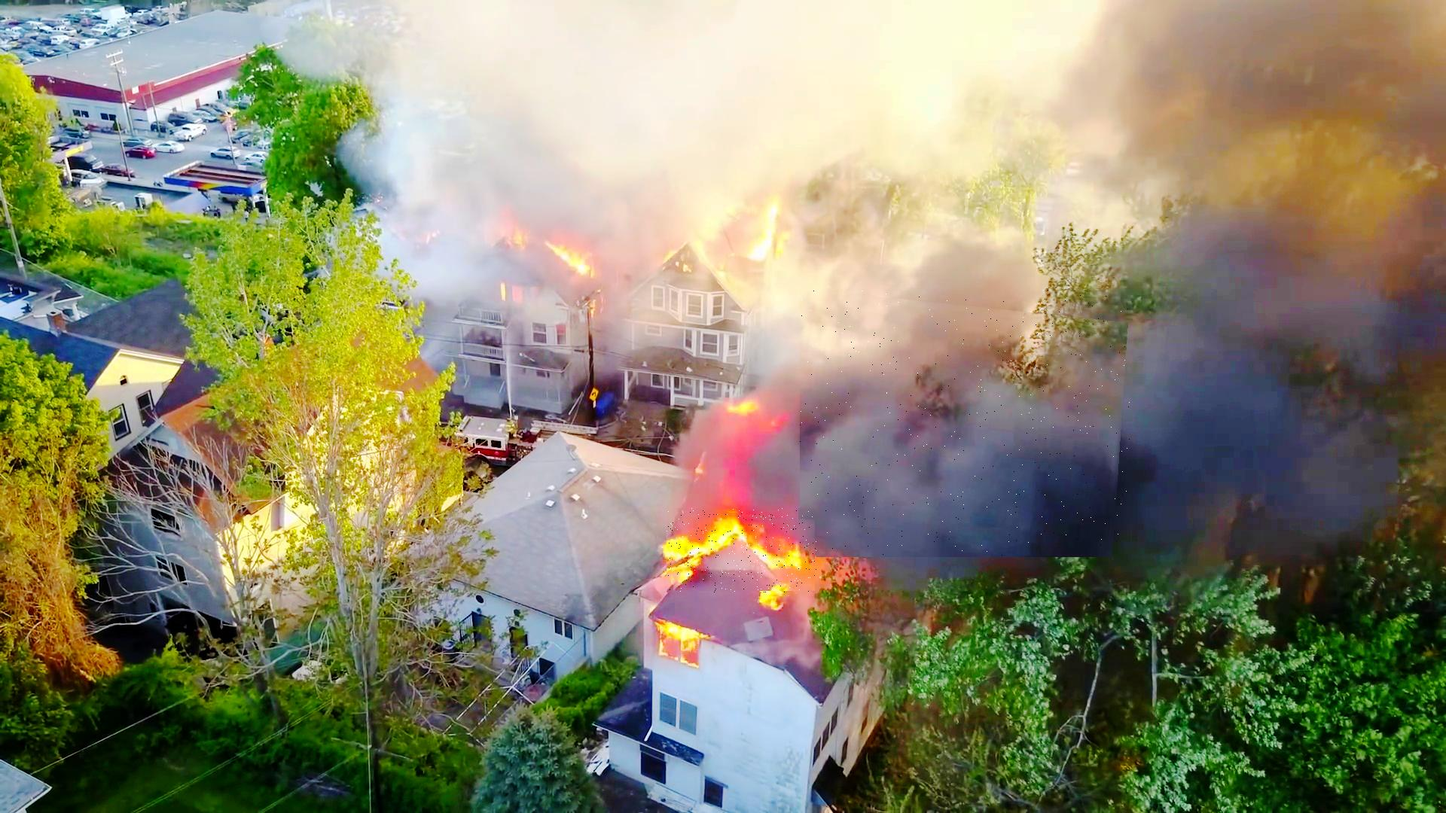fire: (667, 509, 817, 593)
smoke: (801, 288, 1130, 557)
